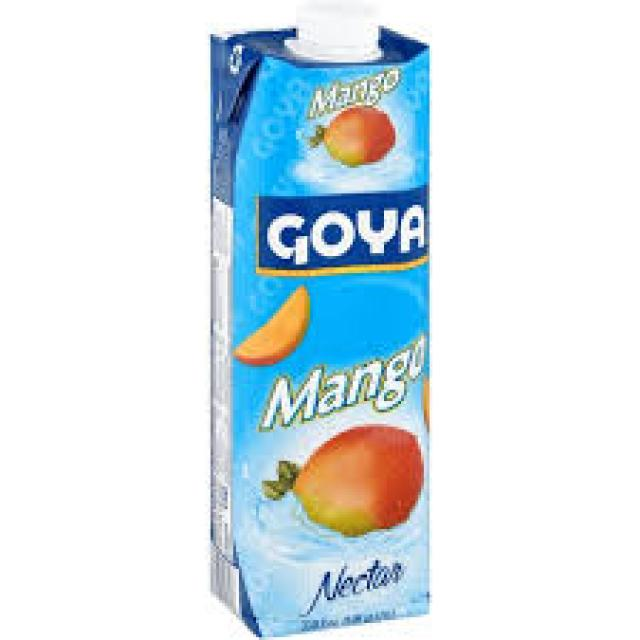non_white_jug: (180, 15, 450, 636)
